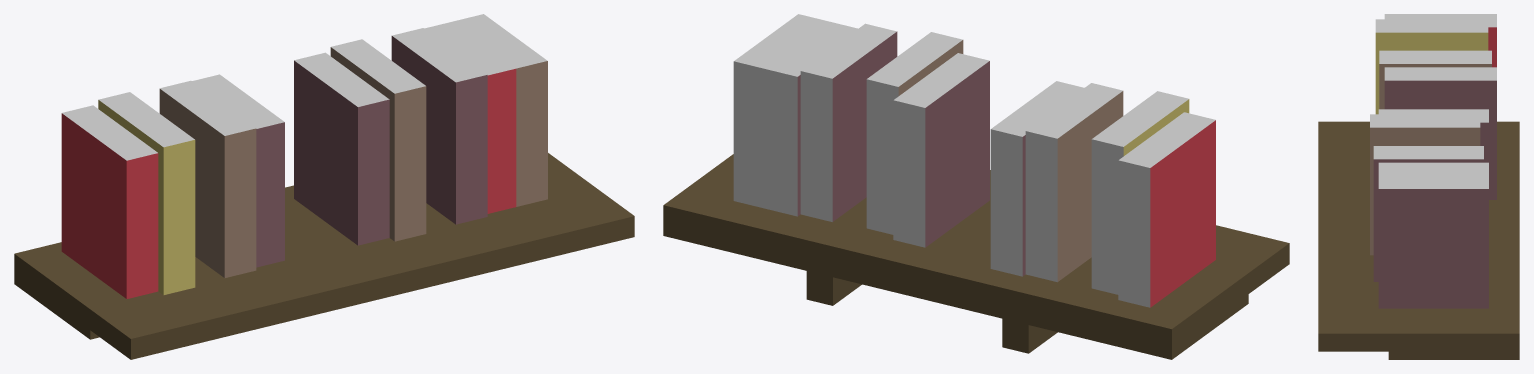
Rendered from bookShelf.fbx.
3 views of the same model, side by side, from view 1: azimuth 30°, elevation 25°; view 2: azimuth 150°, elevation 25°; view 3: azimuth 270°, elevation 25° (orthographic). The views are drawn at different scales.
Parts seen in each view (by area): view 1: book2, books1, bookShelf; view 2: book2, books1, bookShelf; view 3: bookShelf, book2, books1.
Part boxes in pixels (left/top/right/bottom): book2: left=294, top=14, right=547, bottom=245; books1: left=61, top=74, right=284, bottom=298; bookShelf: left=14, top=153, right=634, bottom=359; book2: left=733, top=14, right=989, bottom=247; books1: left=990, top=81, right=1215, bottom=307; bookShelf: left=663, top=154, right=1289, bottom=359; bookShelf: left=1318, top=121, right=1519, bottom=359; book2: left=1370, top=109, right=1488, bottom=308; books1: left=1375, top=14, right=1496, bottom=199.
Size of the model in its own units: 219 by 87.48 by 87.78.
